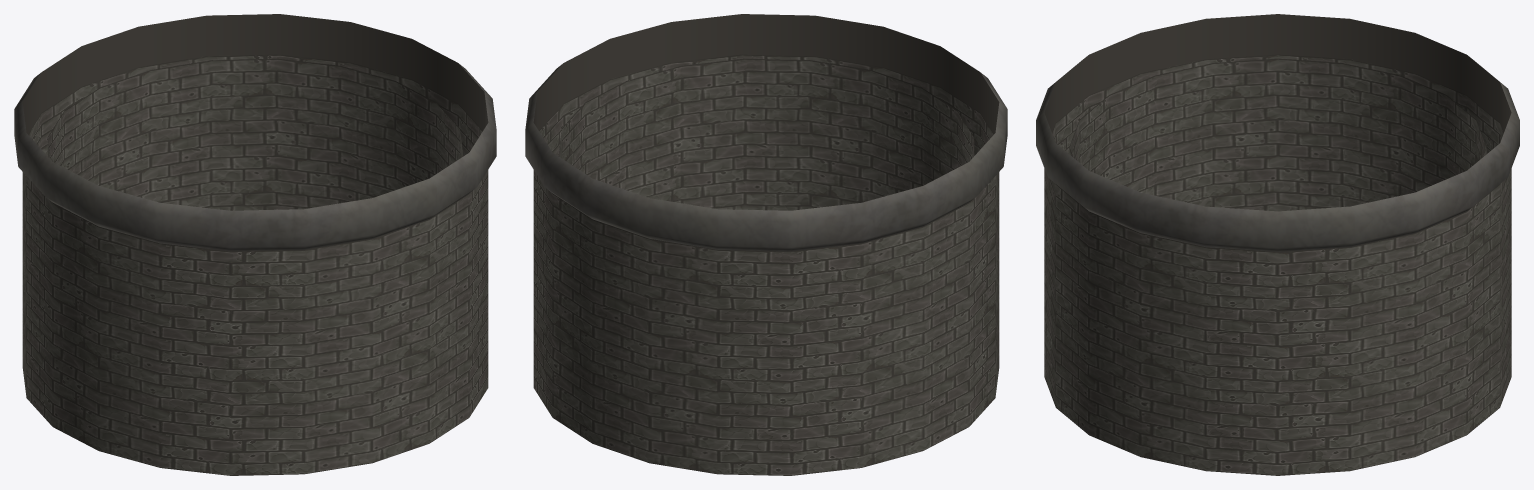
File: Tower_Doorless.fbx
3 views of the same model, side by side, from view 1: azimuth 30°, elevation 25°; view 2: azimuth 150°, elevation 25°; view 3: azimuth 270°, elevation 25° (orthographic).
Parts seen in each view (by area): view 1: Tower_Doorless; view 2: Tower_Doorless; view 3: Tower_Doorless.
Part boxes in pixels (x1,y1,x2,y2): Tower_Doorless: (14, 14, 496, 475); Tower_Doorless: (525, 14, 1007, 475); Tower_Doorless: (1036, 14, 1519, 475).
Bounding box in the file's own units: 58.02 × 35 × 58.02.
